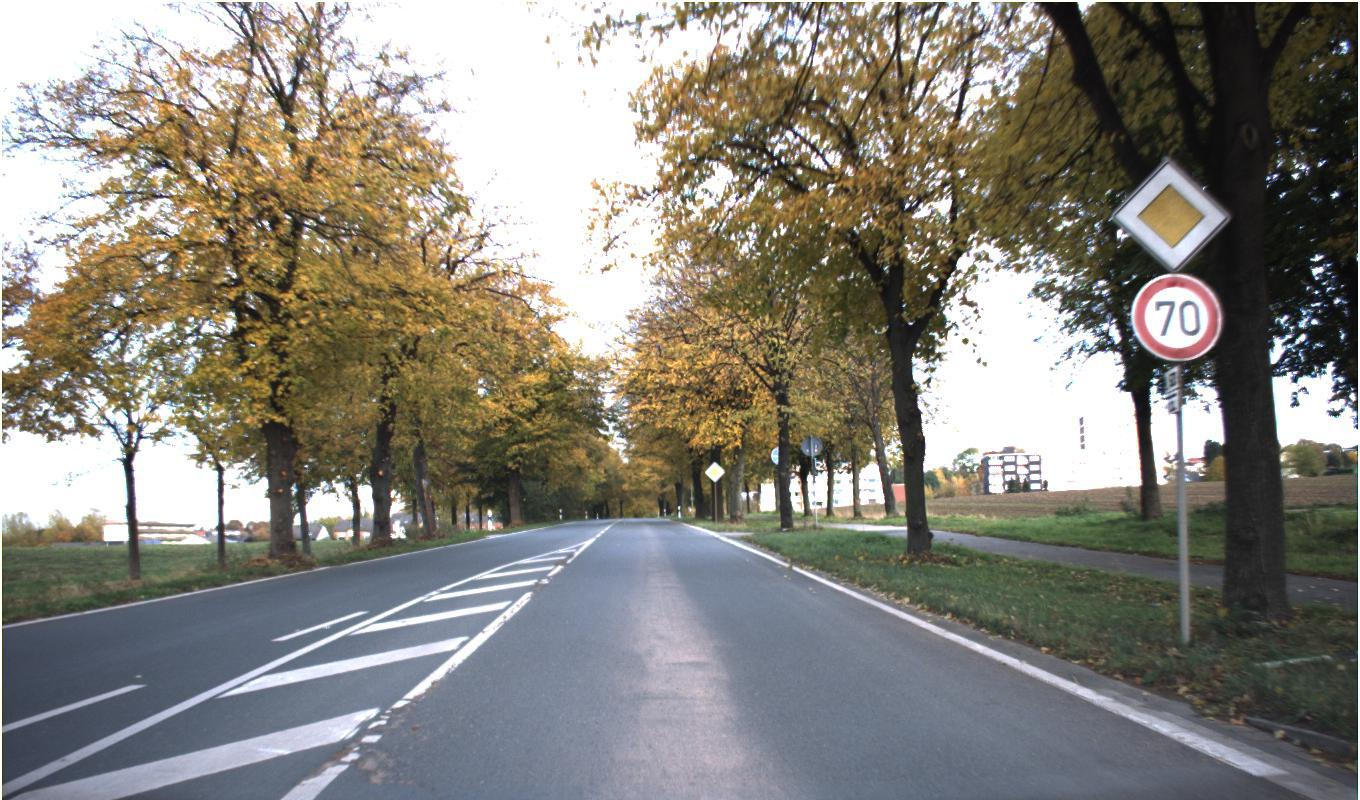12: (1110, 158, 1231, 273), (703, 461, 725, 483)
speed limit 70 (prohibitory): (1131, 274, 1221, 361)
